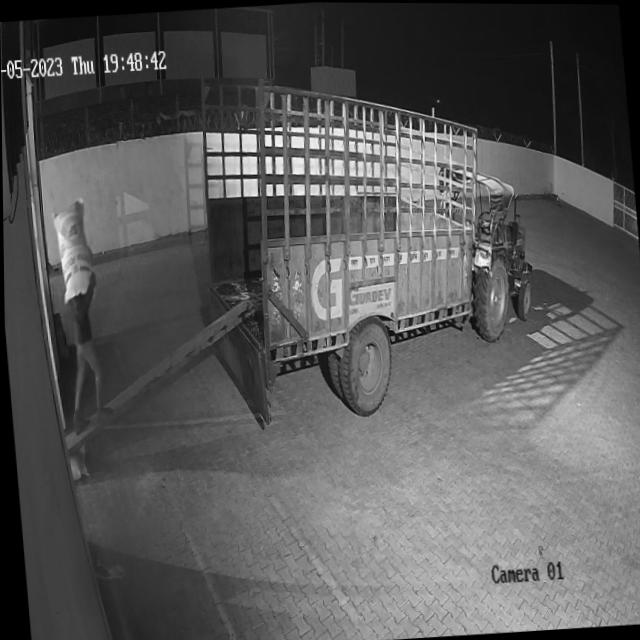sack: (50, 196, 96, 302)
